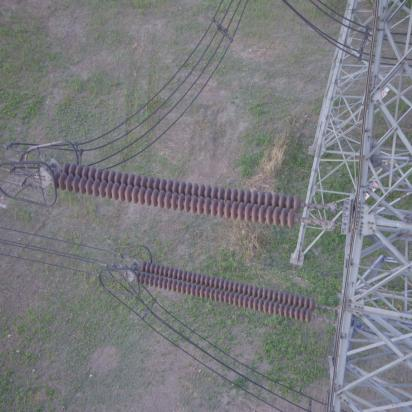insulator: (48, 159, 318, 231), (135, 259, 326, 325)
